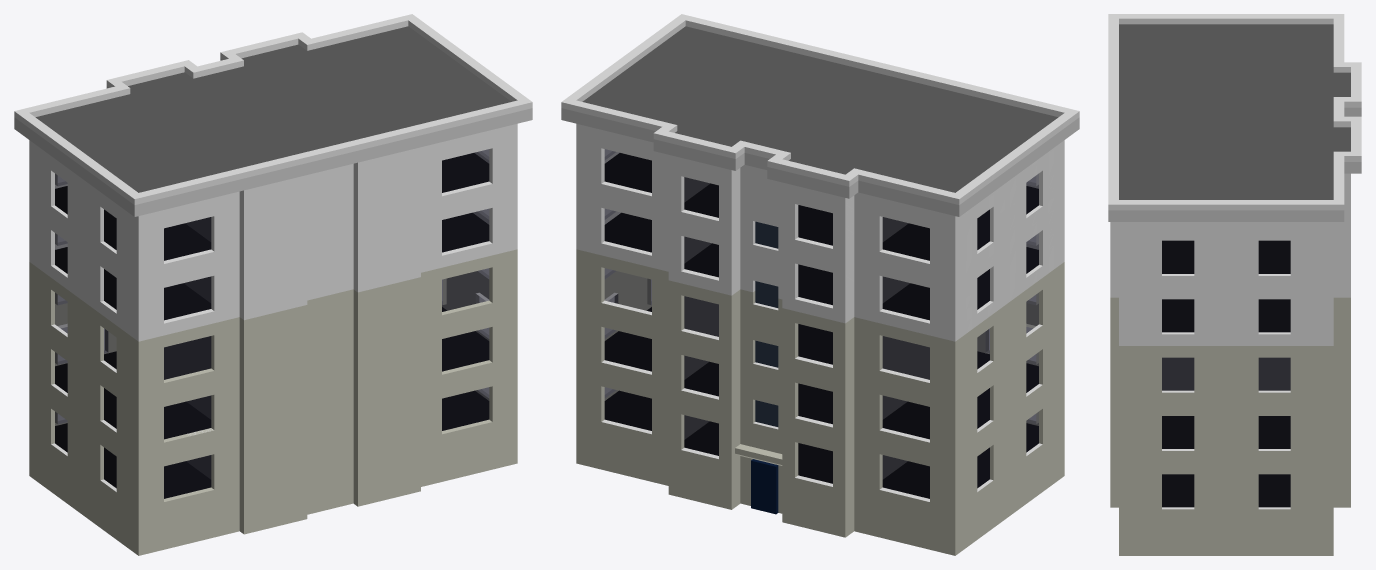
The model's file is jml.fbx.
The picture shows the model from 3 angles, left to right: view 1: azimuth 30°, elevation 25°; view 2: azimuth 150°, elevation 25°; view 3: azimuth 270°, elevation 25°; orthographic projection.
Parts seen in each view (by area): view 1: pCube1, pCube4, pCube3, pCube6, pCube5, pCube8; view 2: pCube1, pCube4, pCube3, pCube6, pCube5, pCube8, pCube7; view 3: pCube1, pCube6, pCube3, pCube5, pCube7, pCube4.
Boxes of the visible parts, box(x1,y1,x2,y2) form: pCube1: box(14, 14, 532, 555); pCube4: box(55, 307, 489, 439); pCube3: box(55, 390, 489, 498); pCube6: box(55, 153, 489, 260); pCube5: box(55, 213, 489, 320); pCube8: box(164, 217, 211, 479); pCube1: box(561, 14, 1079, 555); pCube4: box(604, 307, 1038, 439); pCube3: box(604, 390, 1038, 498); pCube6: box(604, 153, 1038, 260); pCube5: box(604, 213, 1038, 320); pCube8: box(882, 217, 929, 479); pCube7: box(684, 177, 718, 439); pCube1: box(1108, 14, 1361, 555); pCube6: box(1162, 240, 1290, 273); pCube3: box(1162, 474, 1290, 507); pCube5: box(1162, 299, 1290, 332); pCube7: box(1162, 357, 1290, 390); pCube4: box(1162, 416, 1290, 448).
Size of the model in its own units: 21 by 18.3 by 11.8.
